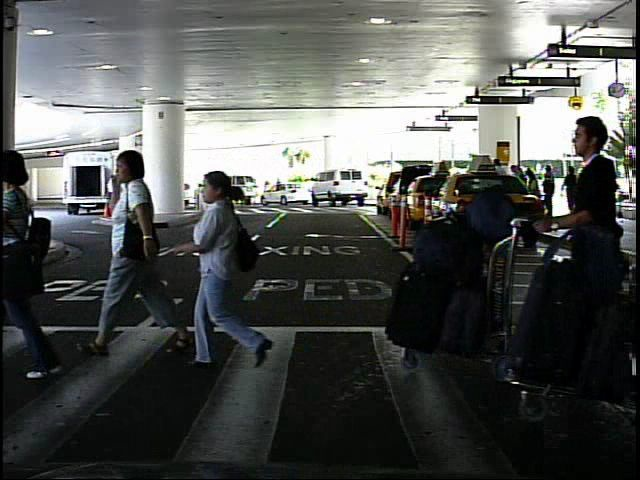person: (175, 159, 257, 382), (107, 137, 184, 359), (552, 95, 640, 230), (585, 172, 604, 217), (101, 172, 119, 202), (261, 178, 271, 204)
